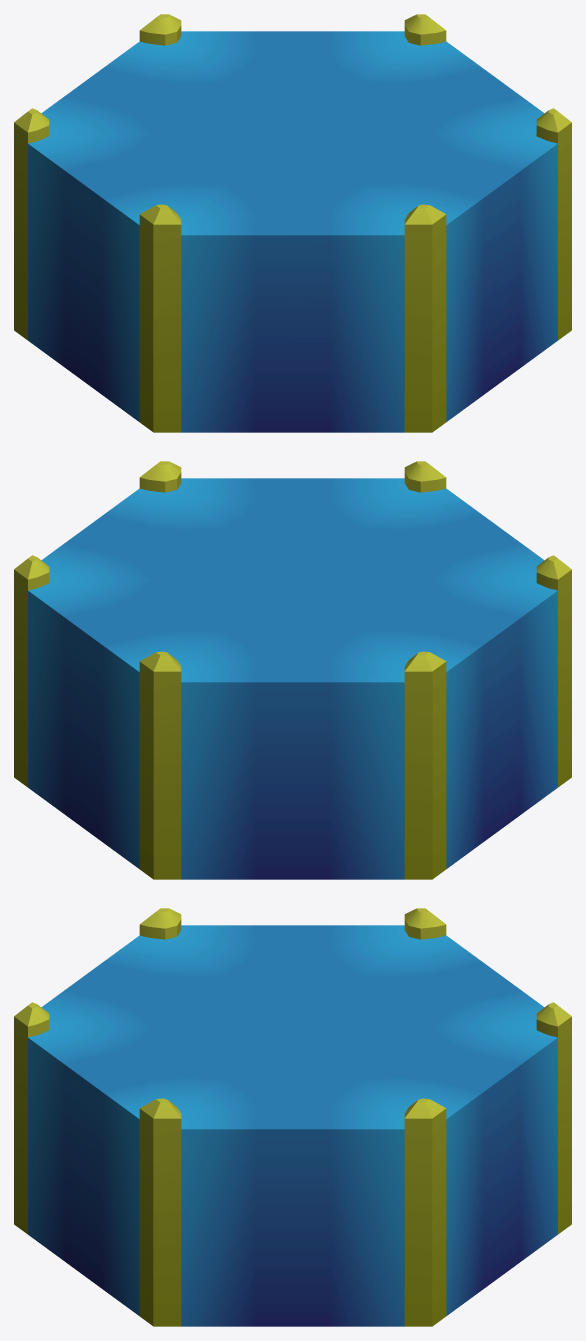
File: kaykit-medieval-hexagon-pack-hex-river-l.glb
The picture shows the model from 3 angles, top to bottom: view 1: azimuth 30°, elevation 25°; view 2: azimuth 150°, elevation 25°; view 3: azimuth 270°, elevation 25°; orthographic projection.
Visible parts, largest first — view 1: hex_river_L; view 2: hex_river_L; view 3: hex_river_L.
Part boxes in pixels (x1,y1,x2,y2): hex_river_L: (14,14,571,432); hex_river_L: (14,461,571,879); hex_river_L: (14,908,571,1326).
Bounding box in the file's own units: 2 × 1 × 2.31.
Materials: 1 (1 with a texture image).
